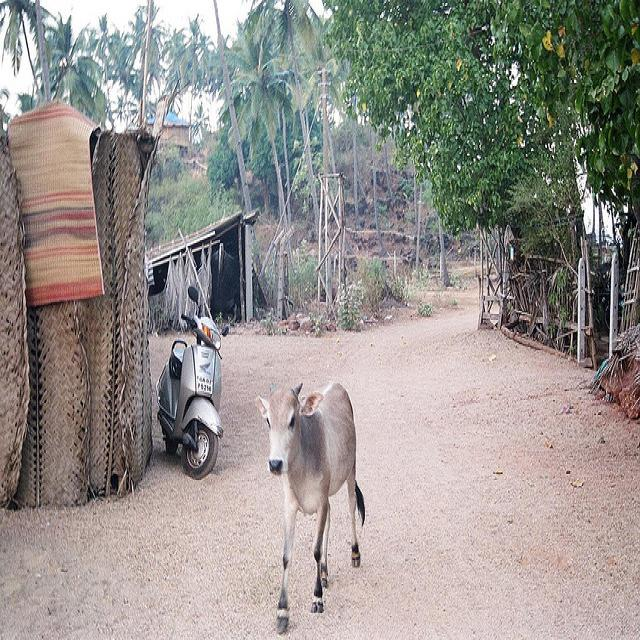motor: (153, 288, 230, 483)
